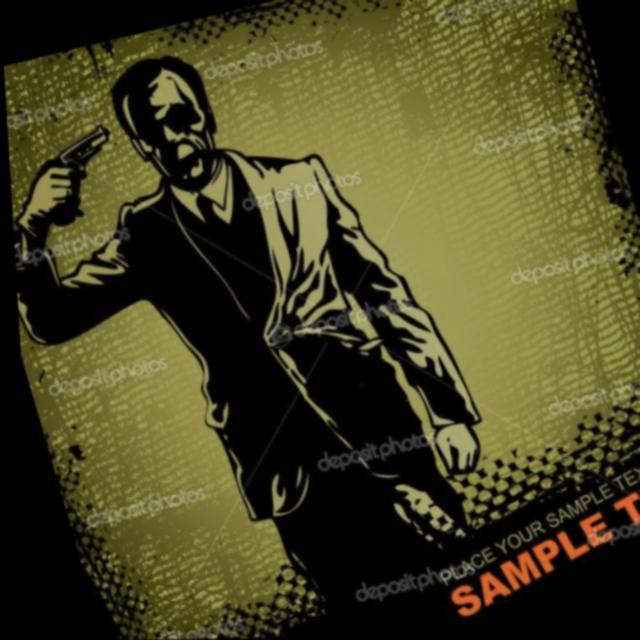weapon: (12, 118, 135, 240)
